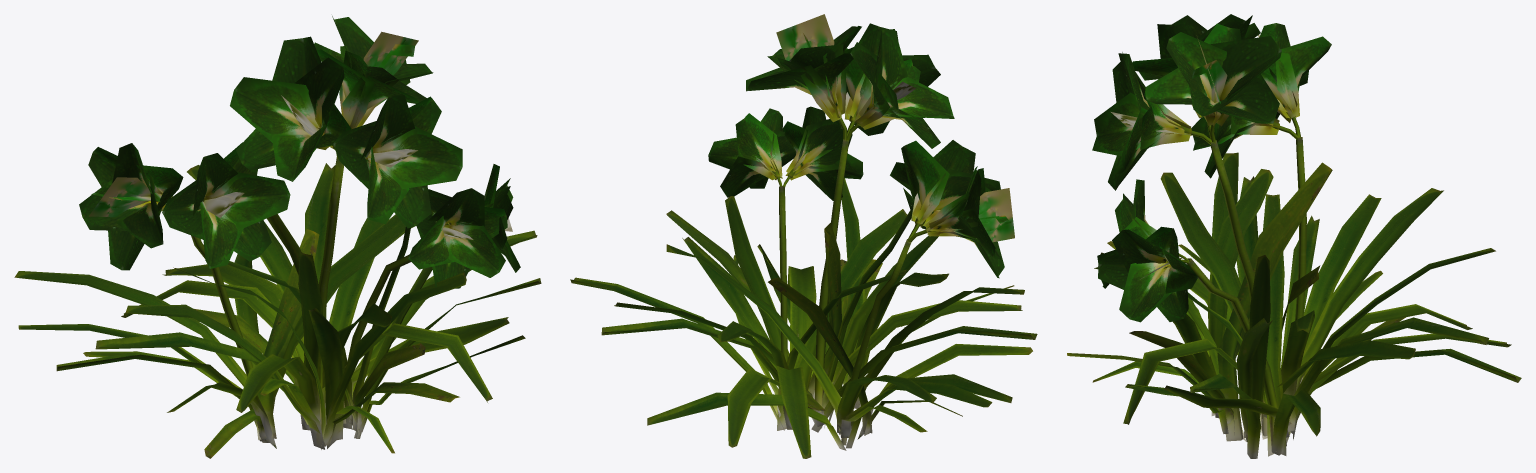
The model's file is Amaryllis_bush_short_greenyellow.glb.
The picture shows the model from 3 angles, left to right: view 1: azimuth 30°, elevation 25°; view 2: azimuth 150°, elevation 25°; view 3: azimuth 270°, elevation 25°; orthographic projection. The views are drawn at different scales.
Visible parts, largest first — view 1: bush; view 2: bush; view 3: bush.
Part boxes in pixels (box(x1,y1,x2,y2)): bush: box(14, 16, 541, 458); bush: box(570, 14, 1037, 458); bush: box(1067, 14, 1521, 458).
Size of the model in its own units: 2.76 by 2.32 by 2.27.
Materials: 1 (1 with a texture image).
